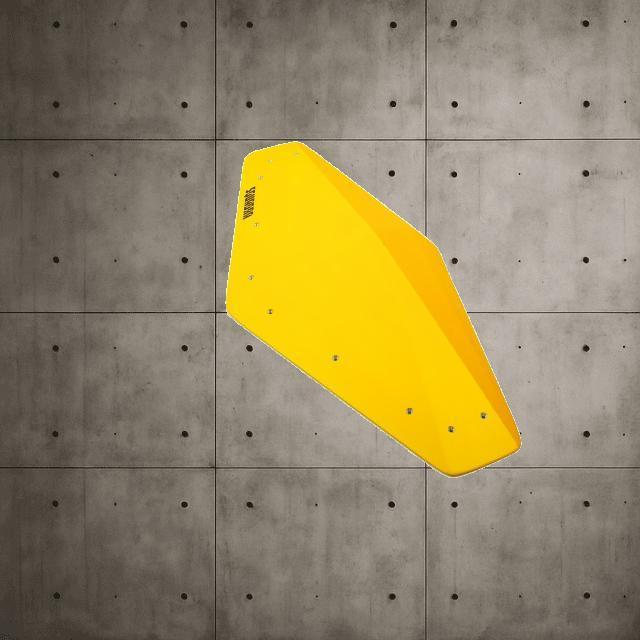Volume: (224, 141, 526, 479)
